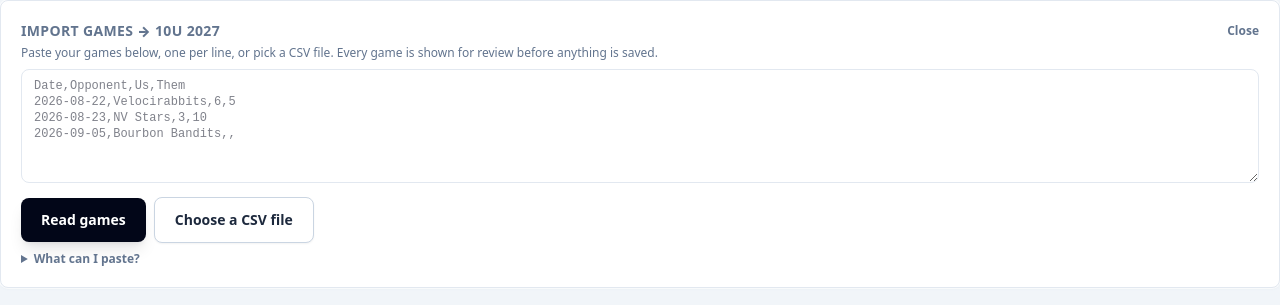
Test case: a game this age group already has › is unticked and cannot be ticked back on
This screenshot has width=1280, height=305.
Click the text box named "Games to import" at (640, 126), box [21, 69, 1259, 183]
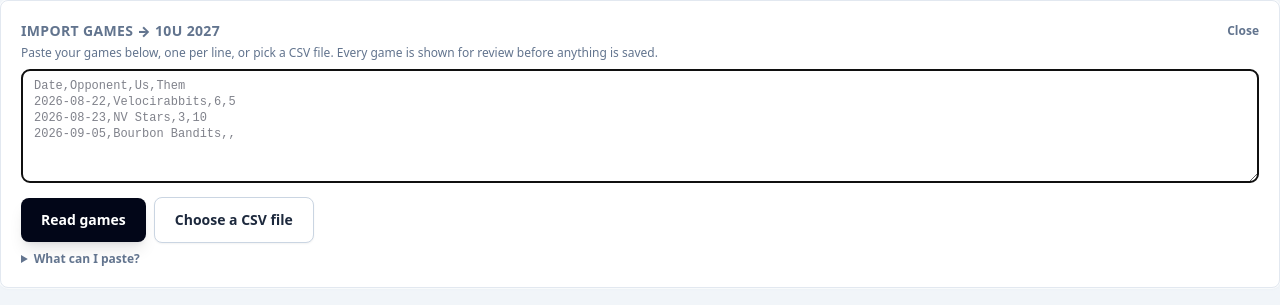
Type keys "Date,Opponent,Us,Them 2026-08-22,Velocirabbits,6,5"
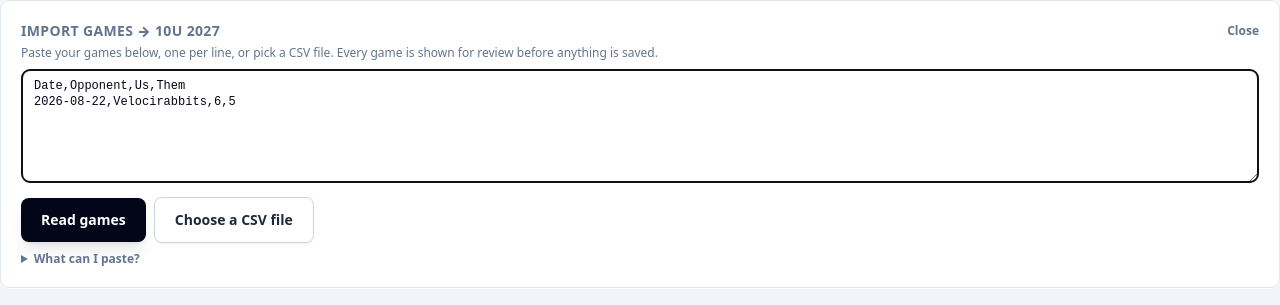
Click the button "Read games" at (83, 220), box [21, 198, 146, 242]
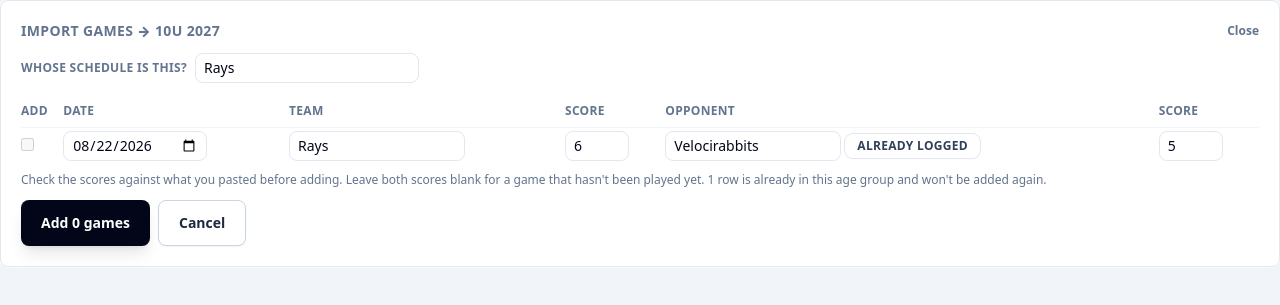
Now the checkbox named "Add Rays versus Velocirabbits" is not checked, box [21, 138, 34, 151]
Now the checkbox named "Add Rays versus Velocirabbits" is disabled, box [21, 138, 34, 151]
Now the text "already in this age group" is shown, box [704, 171, 1046, 188]
